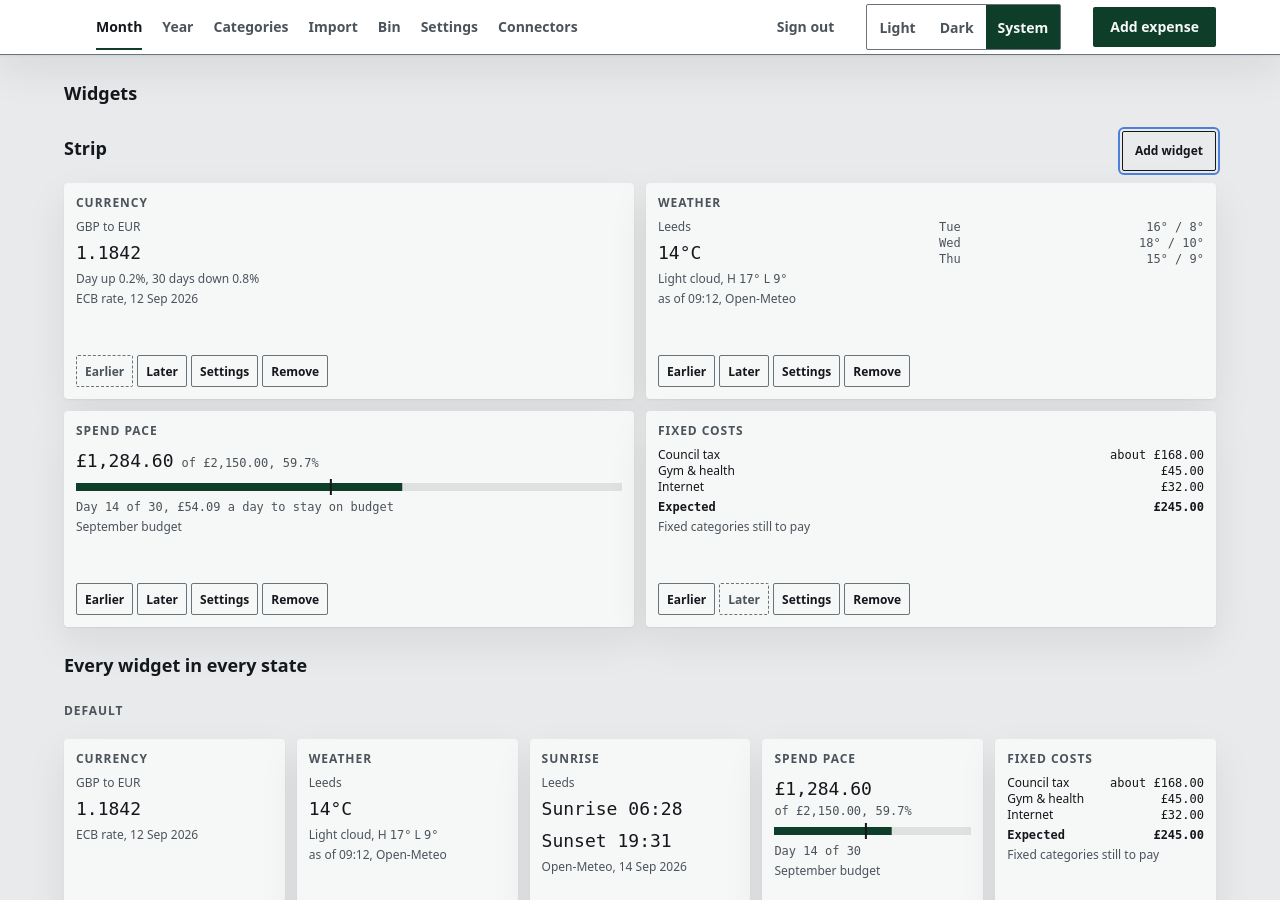
sheets › Escape closes and returns focus to the opener
Click the button with test id "add-widget" at [1169, 151], box [1122,131,1216,171]
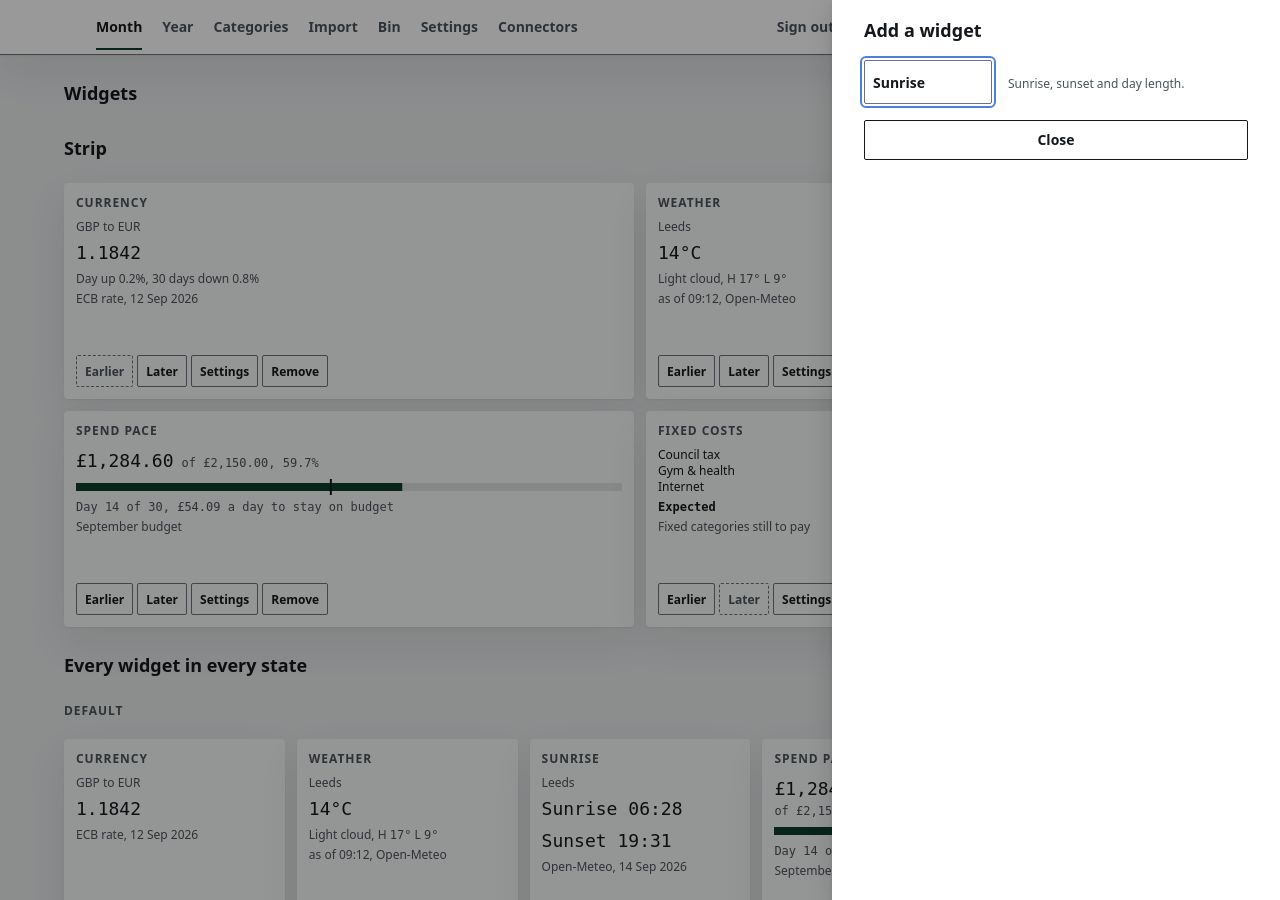
Press Escape in the dialog, box [832,0,1279,899]
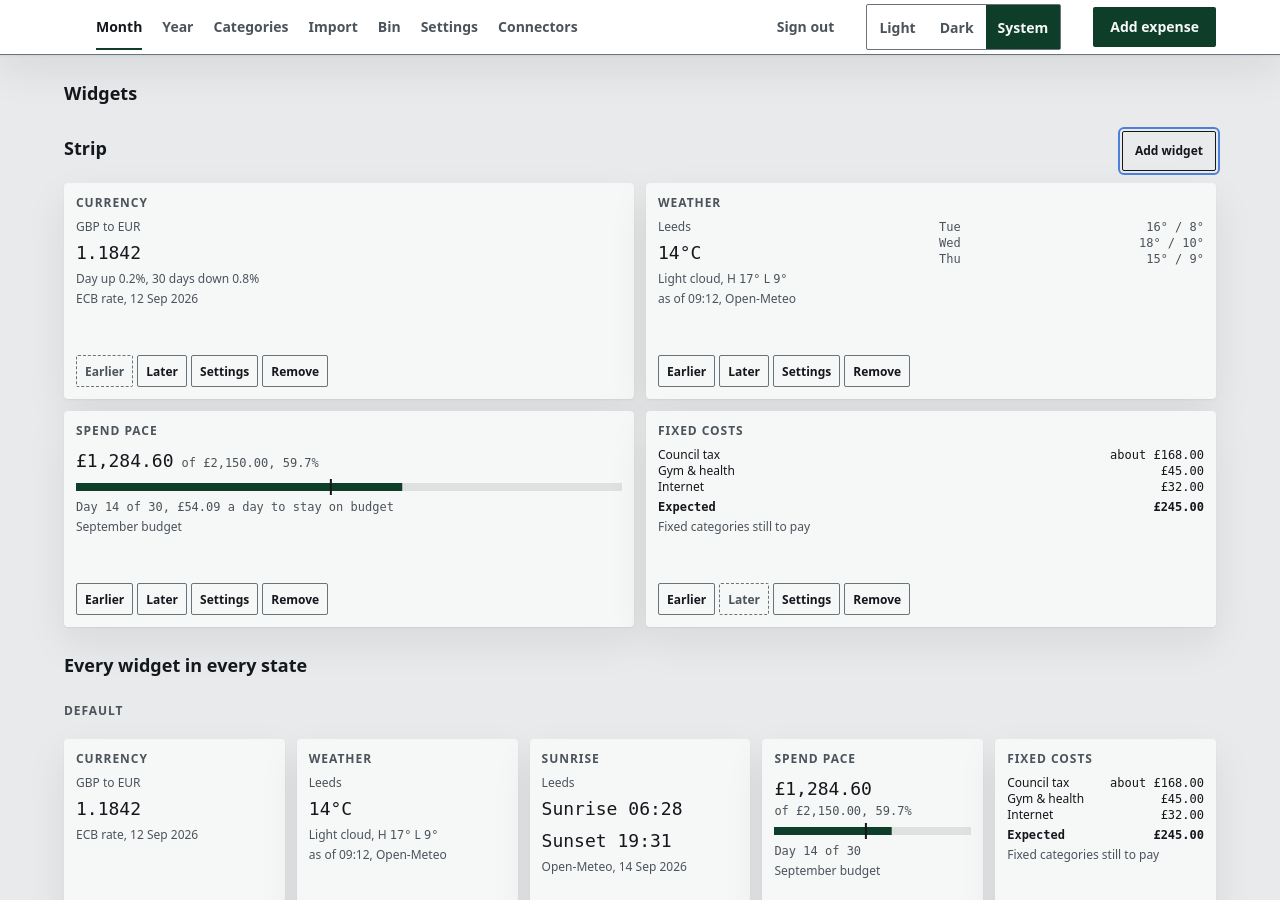
Result: the dialog is gone
